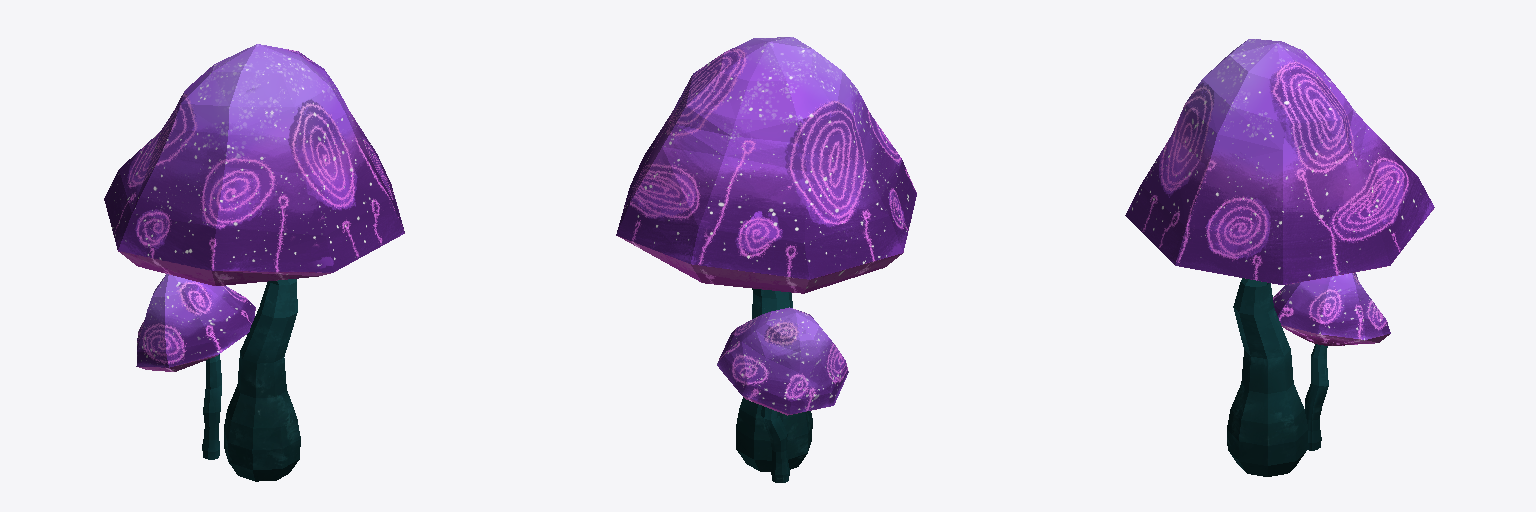
The picture shows the model from 3 angles: view 1: azimuth 30°, elevation 25°; view 2: azimuth 150°, elevation 25°; view 3: azimuth 270°, elevation 25°; orthographic projection.
Visible parts, largest first — view 1: Cylinder.012_Cylinder.004; view 2: Cylinder.012_Cylinder.004; view 3: Cylinder.012_Cylinder.004.
Part boxes in pixels (x1,y1,x2,y2): Cylinder.012_Cylinder.004: (104,44,404,481); Cylinder.012_Cylinder.004: (616,37,916,482); Cylinder.012_Cylinder.004: (1125,39,1434,476).
Bounding box in the file's own units: 1.43 × 2.13 × 1.4.
Materials: 1 (1 with a texture image).